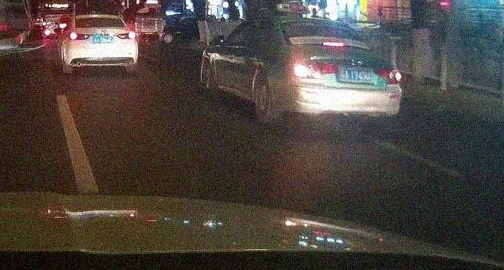L_light: (293, 62, 337, 78), (70, 32, 90, 40)
R_light: (371, 67, 402, 84), (117, 33, 136, 39)
T_light: (322, 42, 344, 47), (93, 18, 103, 20)
night-left: (274, 17, 402, 131)
night-no: (67, 14, 138, 75)
